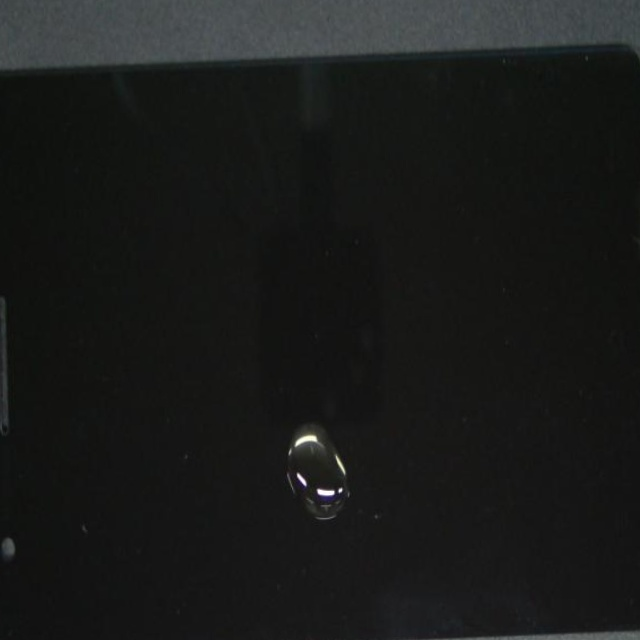oil: (164, 252, 552, 640)
